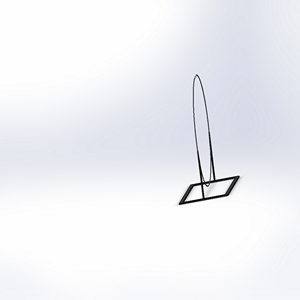circle: (174, 72, 240, 204)
